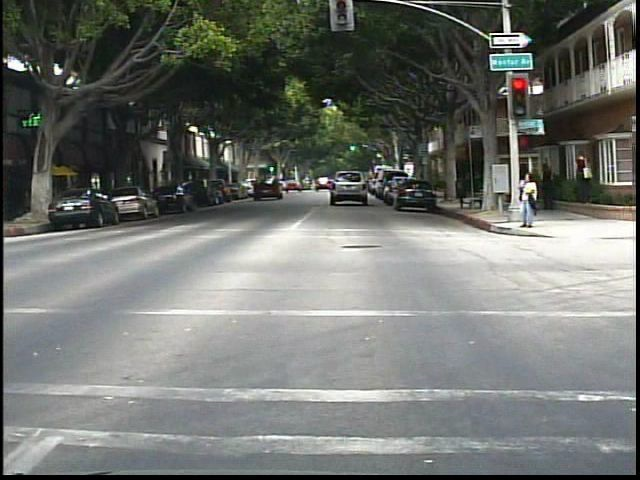person: (514, 168, 541, 229), (570, 148, 597, 205), (540, 159, 562, 216)
